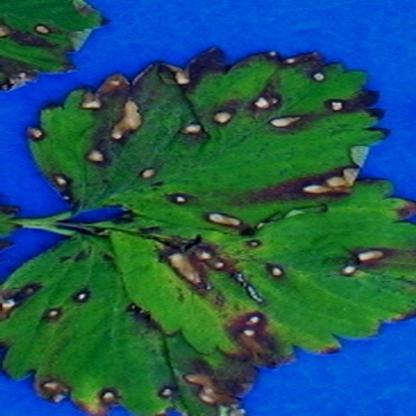Strawberry_Leaf_Spot: (26, 44, 394, 238), (76, 175, 416, 369), (0, 233, 260, 415), (0, 0, 115, 98)
